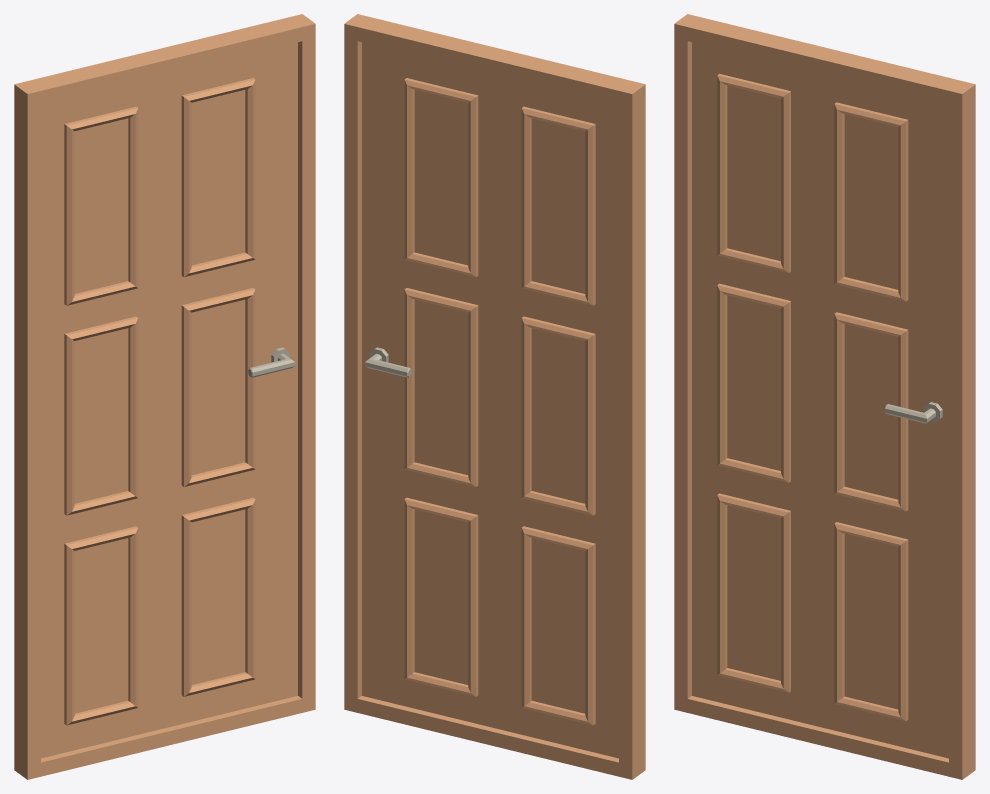
Rendered from Mesh_Door_B13.fbx.
The picture shows the model from 3 angles, left to right: view 1: azimuth 30°, elevation 25°; view 2: azimuth 150°, elevation 25°; view 3: azimuth 330°, elevation 25°; orthographic projection.
Visible parts, largest first — view 1: Mesh_Door_B13; view 2: Mesh_Door_B13; view 3: Mesh_Door_B13.
Part boxes in pixels (box(x1,y1,x2,y2)): Mesh_Door_B13: box(14, 14, 315, 779); Mesh_Door_B13: box(344, 14, 645, 779); Mesh_Door_B13: box(674, 14, 975, 779).
Bounding box in the file's own units: 0.9 × 2.05 × 0.1524.
